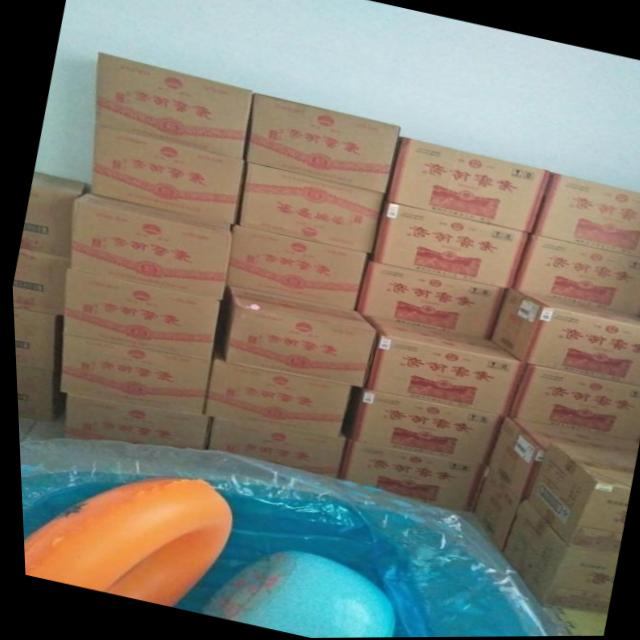box: (66, 192, 230, 301), (92, 51, 251, 160), (357, 314, 523, 418), (384, 137, 550, 235), (243, 92, 400, 194), (222, 284, 374, 389), (88, 123, 243, 224), (487, 290, 640, 388), (62, 269, 216, 360), (371, 202, 529, 290), (496, 500, 613, 616), (237, 161, 383, 253), (482, 415, 634, 501), (522, 442, 631, 556), (223, 225, 367, 310), (56, 334, 207, 415), (354, 259, 503, 340), (346, 389, 497, 466), (202, 360, 346, 437), (510, 235, 640, 318), (508, 365, 640, 445), (335, 441, 479, 509), (531, 173, 640, 260), (203, 416, 343, 477), (61, 394, 203, 448), (17, 172, 86, 258), (464, 468, 515, 548), (10, 246, 66, 314), (11, 307, 55, 371), (13, 367, 51, 421)
